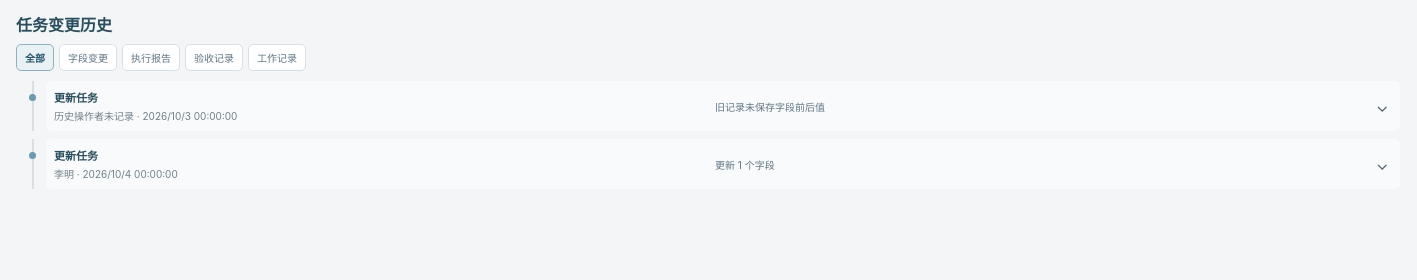
it: shows the actor and field differences and labels incomplete legacy history
Check: the button "字段变更" is shown, box [59,44,117,71]
Check: the text "更新任务" is shown 2 times, box [54,91,98,105]; [54,149,98,163]
Click the button "更新任务 李明 · 2026/10/4 00:00:00 更新 1 个字段 ⌄" at (723, 164), box [46,139,1400,189]
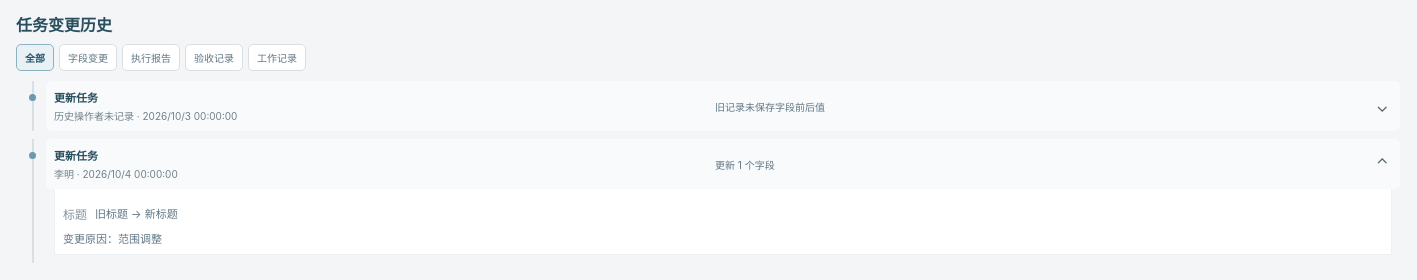
Check: the text "旧标题 → 新标题" is shown, box [95,205,178,222]
Check: the text "变更原因：范围调整" is shown, box [63,232,162,246]
